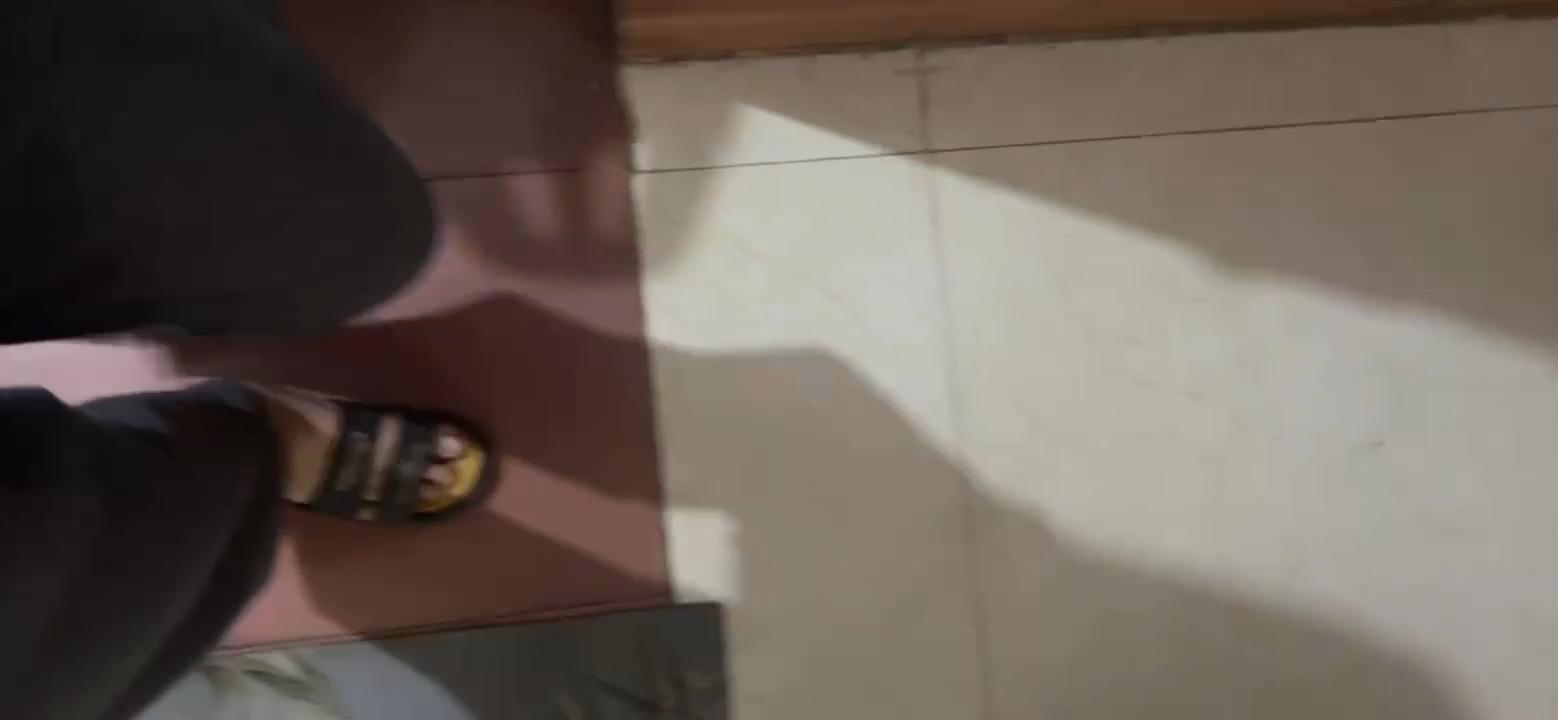no-boot: (239, 387, 493, 527)
